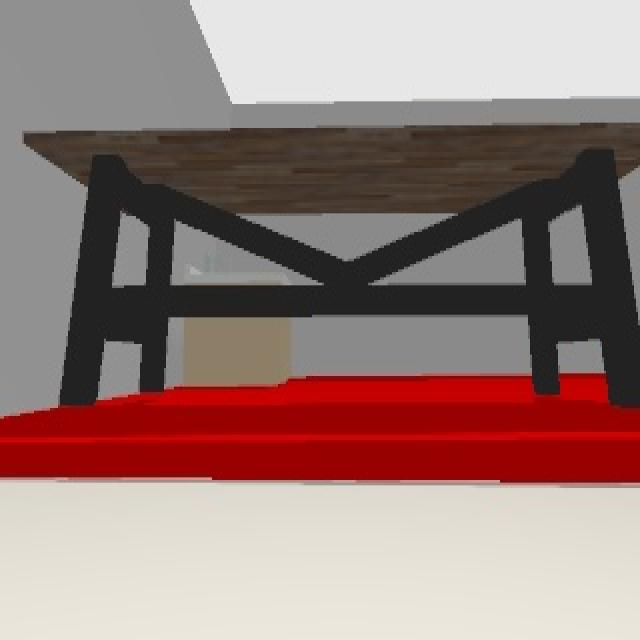dining: (22, 119, 640, 408)
